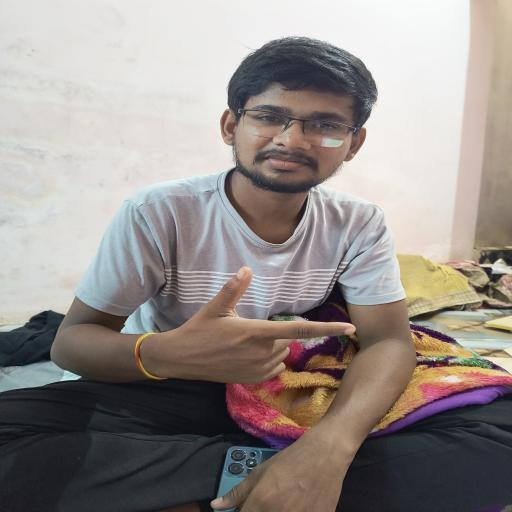OK: (154, 259, 371, 400)
